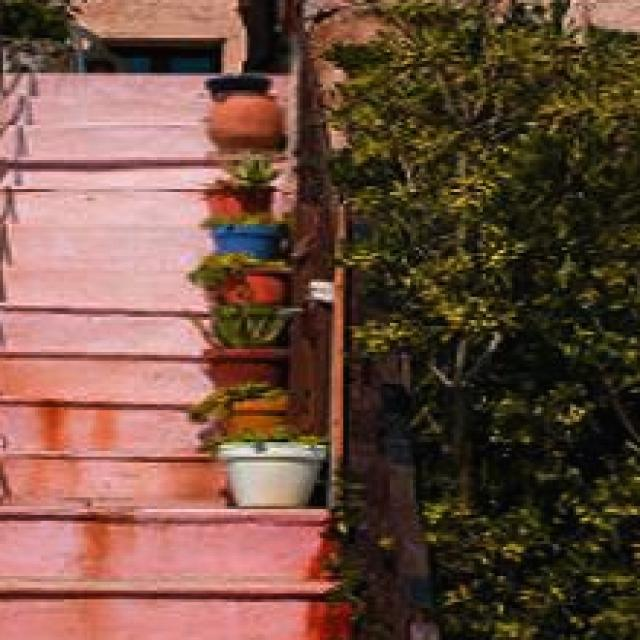upstair: (1, 300, 341, 629)
